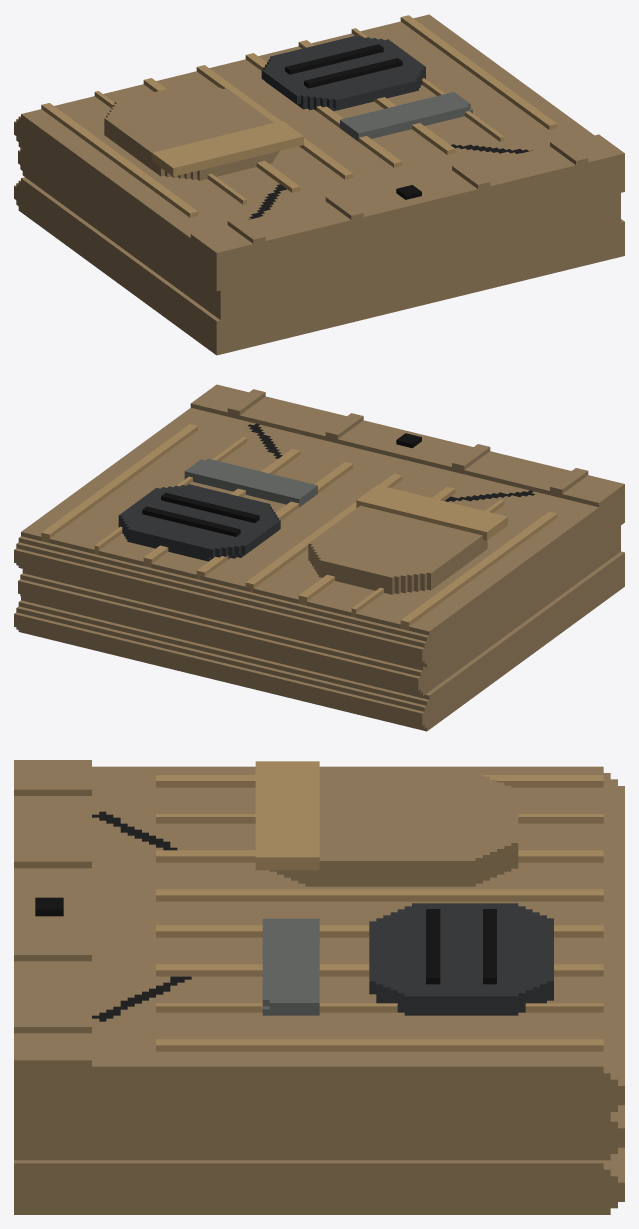
File: eod_trousers_light.glb
3 views of the same model, one above another, from view 1: azimuth 30°, elevation 25°; view 2: azimuth 150°, elevation 25°; view 3: azimuth 270°, elevation 25° (orthographic). The views are drawn at different scales.
Parts seen in each view (by area): view 1: eod_trousers_light:compound; view 2: eod_trousers_light:compound; view 3: eod_trousers_light:compound.
Part boxes in pixels (<box>): eod_trousers_light:compound: <box>14,14,624,355</box>; eod_trousers_light:compound: <box>14,384,624,731</box>; eod_trousers_light:compound: <box>14,760,624,1214</box>.
Bounding box in the file's own units: 0.4 × 0.112 × 0.344.
